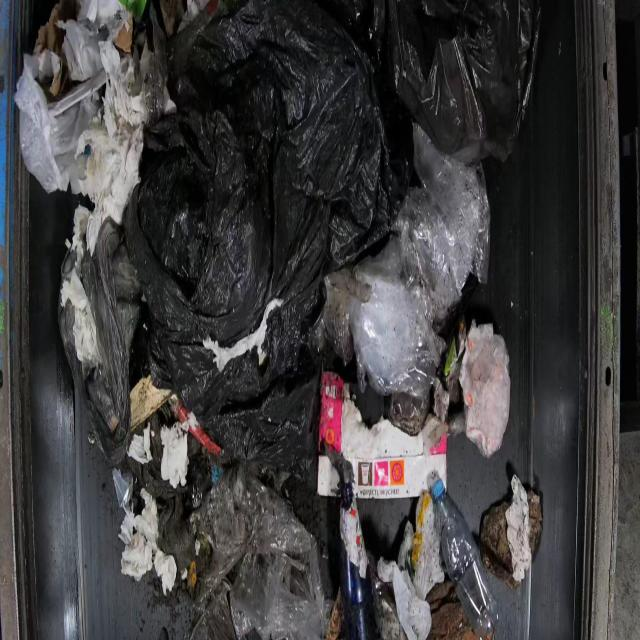bottles: (425, 469, 499, 638)
other-trash: (15, 0, 543, 638)
